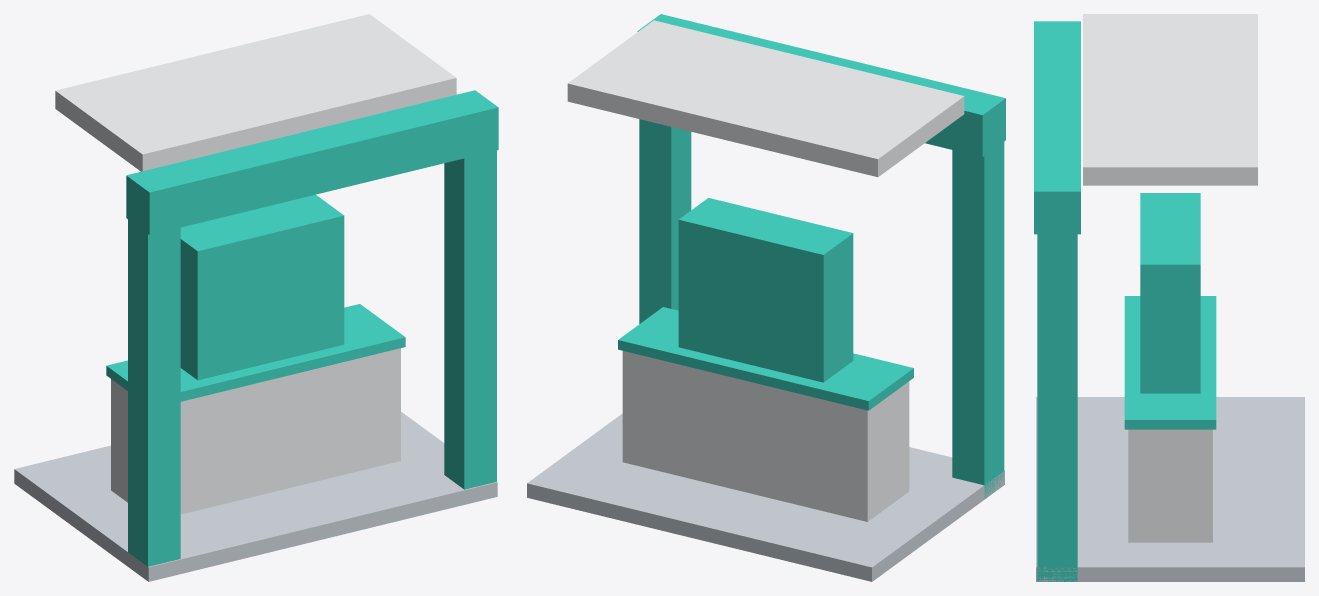
3 views of the same model, side by side, from view 1: azimuth 30°, elevation 25°; view 2: azimuth 150°, elevation 25°; view 3: azimuth 270°, elevation 25° (orthographic).
Parts seen in each view (by area): view 1: Exhibition Booth Concept; view 2: Exhibition Booth Concept; view 3: Exhibition Booth Concept.
Boxes of the visible parts, x1=… form: Exhibition Booth Concept: x1=14, y1=14, x2=498, y2=581; Exhibition Booth Concept: x1=527, y1=14, x2=1005, y2=581; Exhibition Booth Concept: x1=1034, y1=14, x2=1304, y2=581.
Size of the model in its own units: 3 by 3.34 by 2.01.
